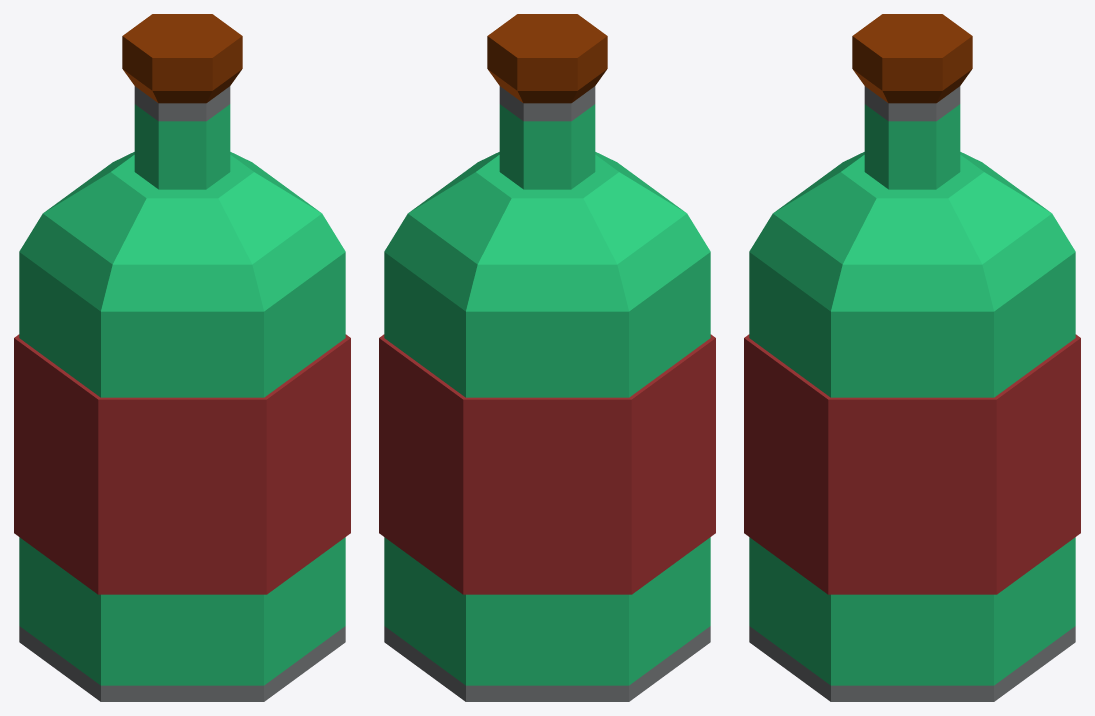
The model's file is Wine Bottle 1.fbx.
The picture shows the model from 3 angles, left to right: view 1: azimuth 30°, elevation 25°; view 2: azimuth 150°, elevation 25°; view 3: azimuth 270°, elevation 25°; orthographic projection.
Visible parts, largest first — view 1: Wine Bottle 1; view 2: Wine Bottle 1; view 3: Wine Bottle 1.
Boxes of the visible parts, x1,y1,x2,y2 form: Wine Bottle 1: (14,14,350,701); Wine Bottle 1: (379,14,715,701); Wine Bottle 1: (744,14,1080,701).
Bounding box in the file's own units: 0.6145 × 1.41 × 0.7096.
